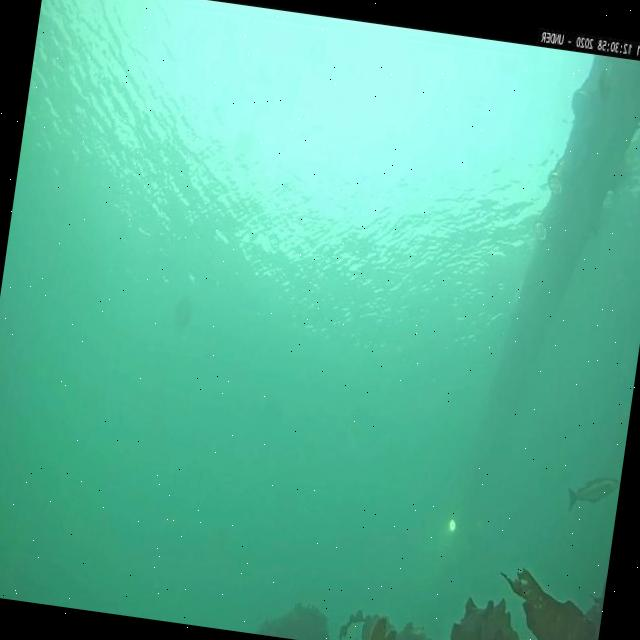fish: (566, 471, 620, 518)
